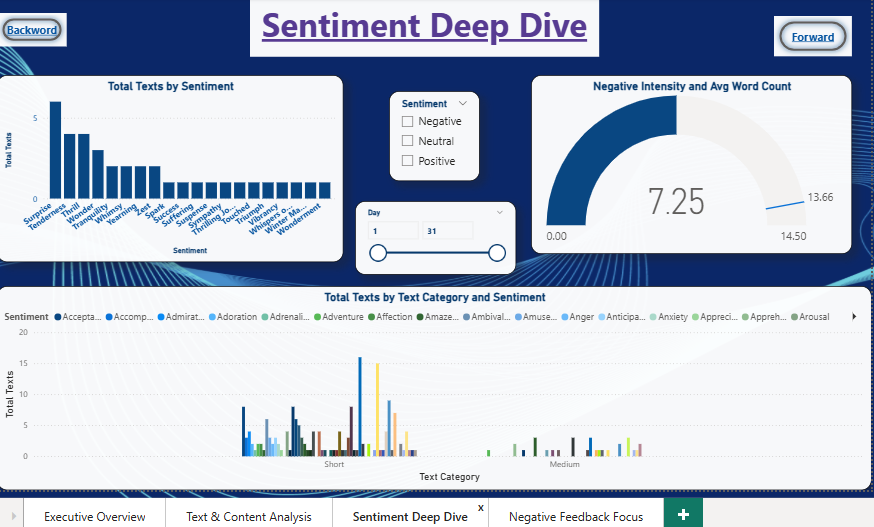

The dashboard page shown, as its layout file describes it:
{"tool":"powerbi","page":{"name":"Sentiment Deep Dive","canvas":[1280,720],"ordinal":2},"visuals":[{"type":"textbox","box":[369.6,0,510.7,85.7],"z":0},{"type":"columnChart","fields":{"Category":["cleaned_sentiment.Sentiment"],"Y":["cleaned_sentiment.Total Texts"]},"box":[0,112.5,507.3,273.8],"z":1000},{"type":"clusteredColumnChart","fields":{"Category":["cleaned_sentiment.Text Category"],"Series":["cleaned_sentiment.Sentiment"],"Y":["cleaned_sentiment.Total Texts"]},"box":[0,421.5,1280.5,298.5],"z":2000},{"type":"gauge","fields":{"Y":["cleaned_sentiment.Negative Intensity"],"TargetValue":["cleaned_sentiment.Avg Word Count"]},"box":[781.1,112.5,470.3,262],"z":3000},{"type":"slicer","fields":{"Values":["cleaned_sentiment.Sentiment"]},"box":[573.7,136.1,133.2,131.7],"z":4000},{"type":"slicer","fields":{"Values":["cleaned_sentiment.Day"]},"box":[523.9,297.1,235.6,108.3],"z":5000},{"type":"actionButton","box":[0,21.8,102.5,48.7],"z":6000},{"type":"actionButton","box":[1137.2,26.9,114.2,58.8],"z":7000}]}

Visuals, with their boxes on the page's 1280x720 design canvas (x1, y1, x2, y2). These are canvas units, not pixel positions in the 874x527 screenshot, which may show the page scaled, cropped or inside an application window:
textbox: [x1=370, y1=0, x2=880, y2=86]
columnChart - cleaned_sentiment.Sentiment x cleaned_sentiment.Total Texts: [x1=0, y1=112, x2=507, y2=386]
clusteredColumnChart - cleaned_sentiment.Text Category x cleaned_sentiment.Sentiment: [x1=0, y1=422, x2=1280, y2=720]
gauge - cleaned_sentiment.Negative Intensity x cleaned_sentiment.Avg Word Count: [x1=781, y1=112, x2=1251, y2=374]
slicer - cleaned_sentiment.Sentiment: [x1=574, y1=136, x2=707, y2=268]
slicer - cleaned_sentiment.Day: [x1=524, y1=297, x2=760, y2=405]
actionButton: [x1=0, y1=22, x2=102, y2=70]
actionButton: [x1=1137, y1=27, x2=1251, y2=86]
